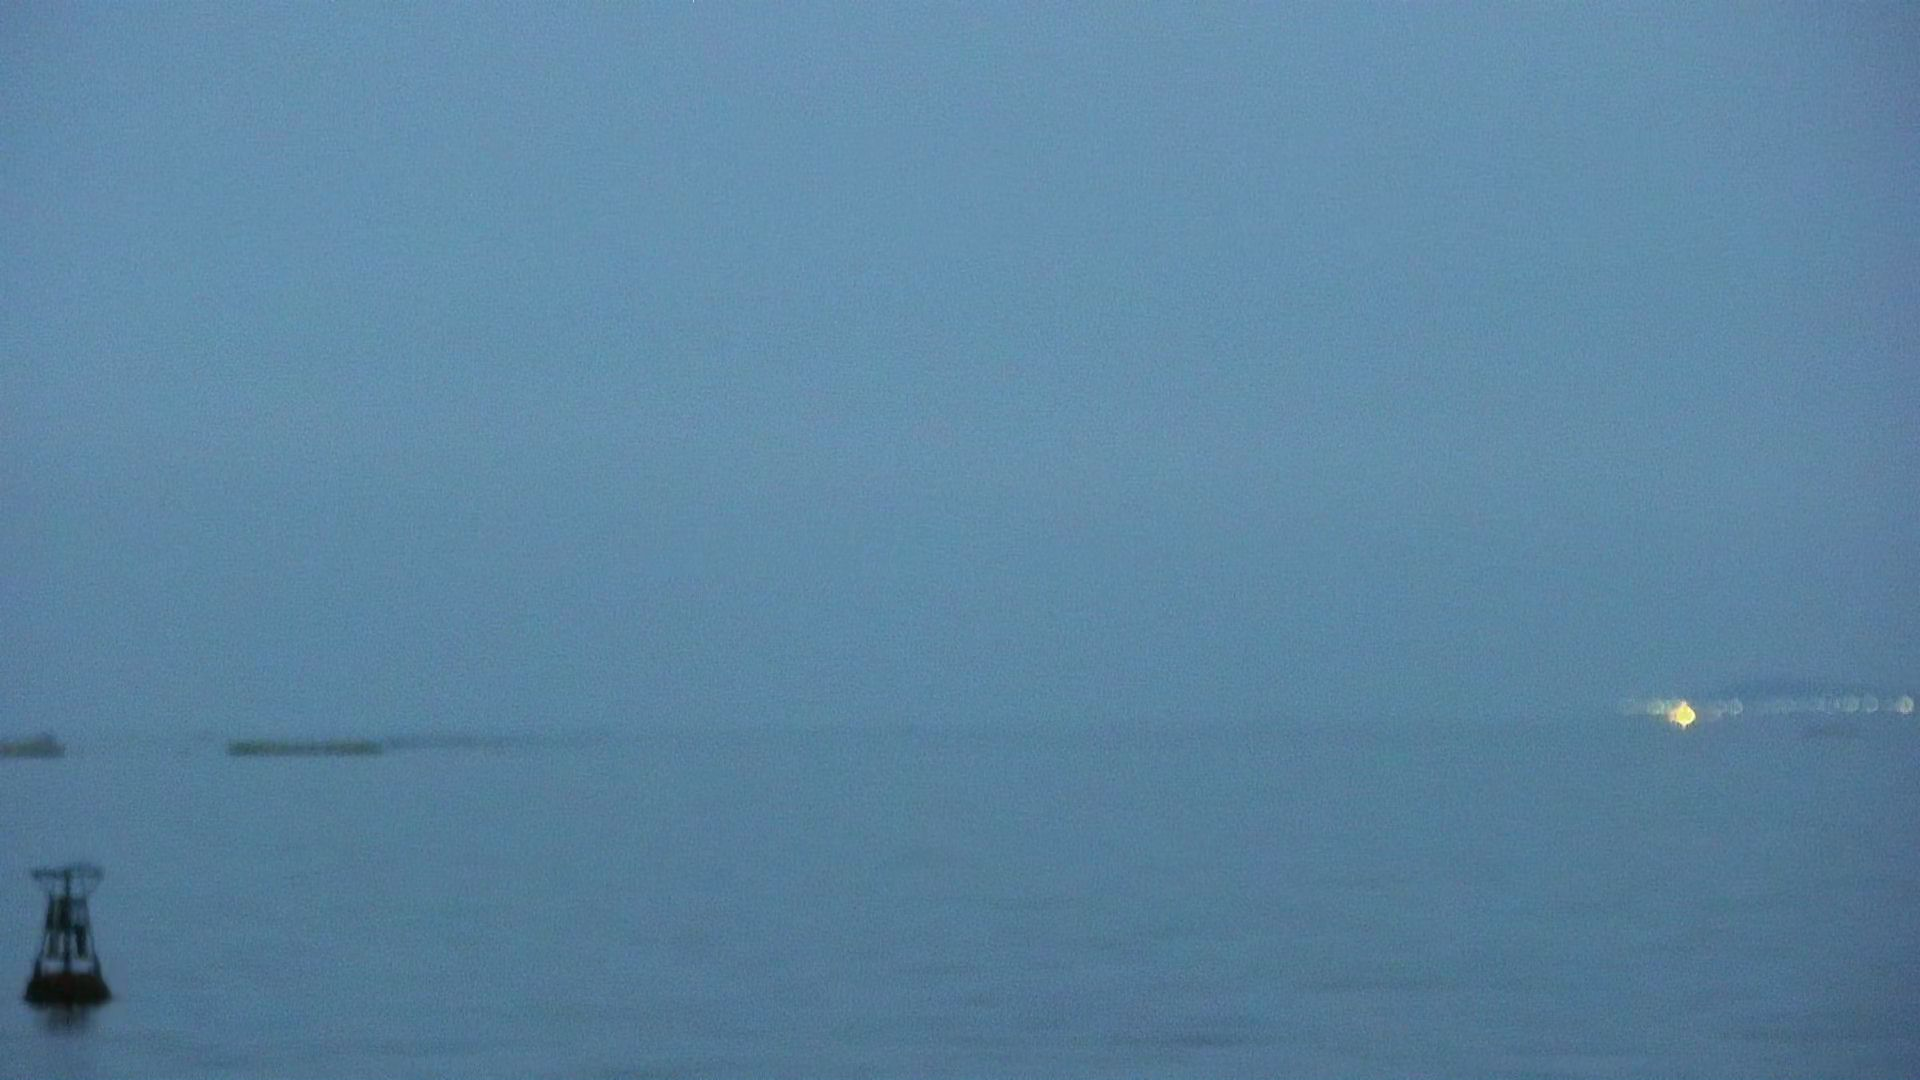buoy: (18, 855, 120, 1025)
